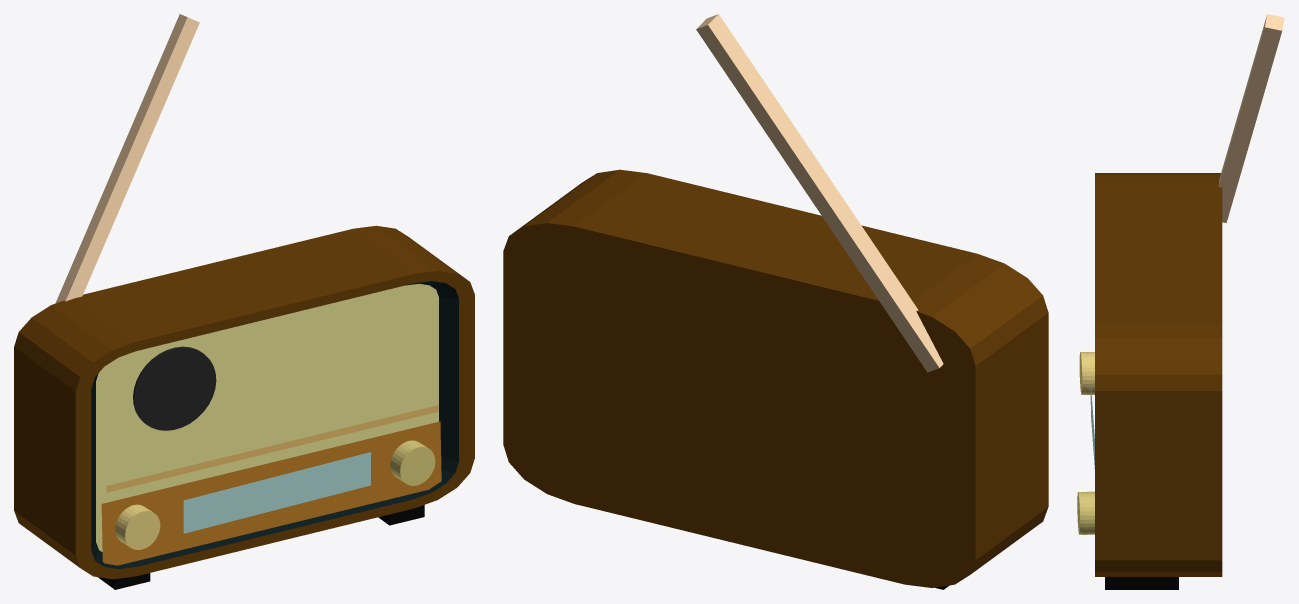
Rendered from RADIO.fbx.
3 renders of one model, left to right at view 1: azimuth 30°, elevation 25°; view 2: azimuth 150°, elevation 25°; view 3: azimuth 270°, elevation 25°, orthographic. The views are drawn at different scales.
Visible parts, largest first — view 1: Cube, Plane.001, Cube.001, Plane.002, Cylinder.002, Plane, Cylinder, Cylinder.001; view 2: Cube, Cube.001; view 3: Cube, Cube.001, Cube.003, Cylinder, Cylinder.001.
Part boxes in pixels (<box>): Cube: <box>14,225,474,579</box>; Plane.001: <box>101,421,441,565</box>; Cube.001: <box>55,14,199,303</box>; Plane.002: <box>183,452,370,533</box>; Cylinder.002: <box>133,346,216,430</box>; Plane: <box>106,405,438,492</box>; Cylinder: <box>390,440,435,485</box>; Cylinder.001: <box>115,504,160,549</box>; Cube: <box>503,169,1048,587</box>; Cube.001: <box>696,14,943,372</box>; Cube: <box>1095,173,1222,576</box>; Cube.001: <box>1218,14,1284,222</box>; Cube.003: <box>1105,577,1178,589</box>; Cylinder: <box>1077,491,1094,534</box>; Cylinder.001: <box>1079,352,1094,394</box>.
Size of the model in its own units: 356 by 410 by 155.
